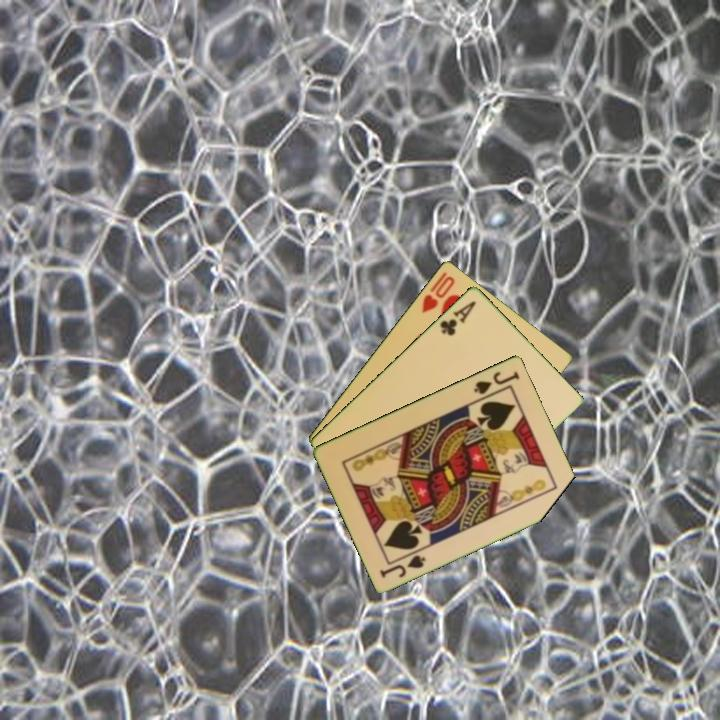10h: (418, 268, 458, 316)
Ac: (436, 296, 479, 339)
Js: (470, 367, 523, 397), (376, 551, 429, 580)
